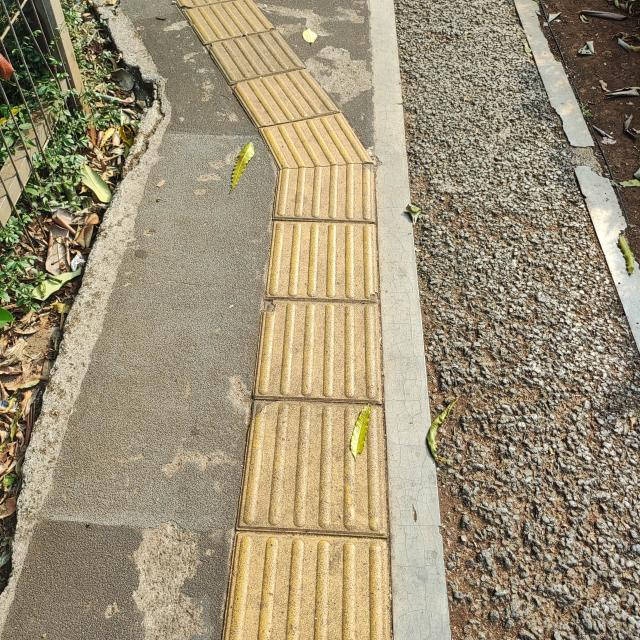lurus: (228, 186, 404, 640)
